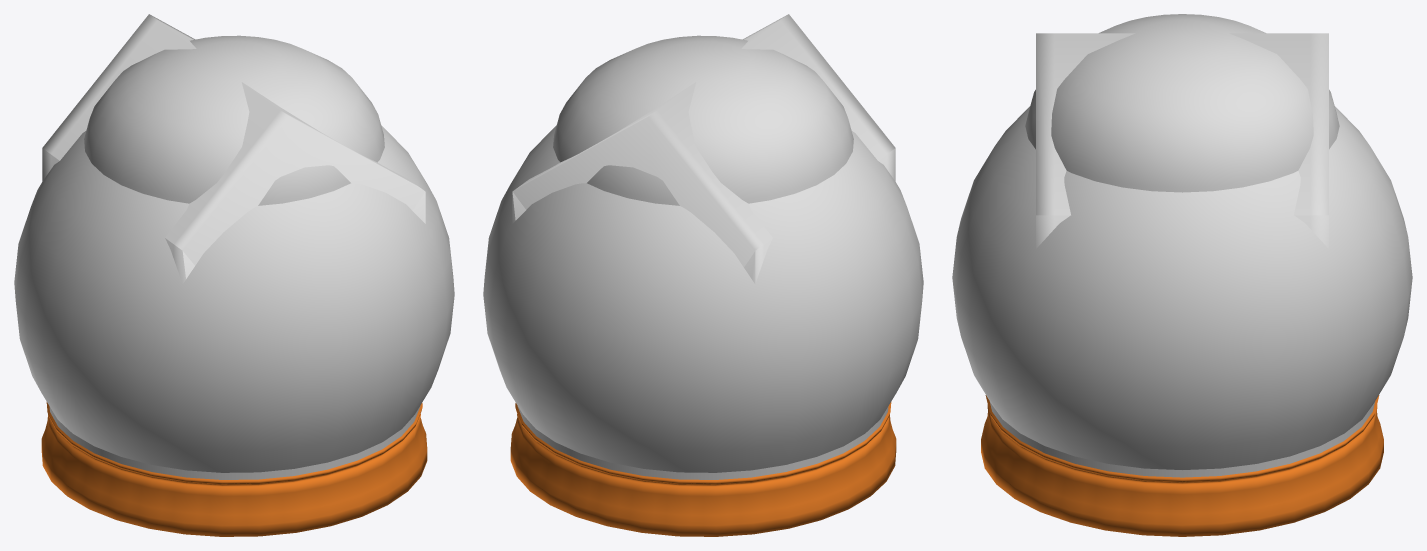
Rendered from jar.glb.
The picture shows the model from 3 angles, left to right: view 1: azimuth 30°, elevation 25°; view 2: azimuth 150°, elevation 25°; view 3: azimuth 270°, elevation 25°; orthographic projection. The views are drawn at different scales.
Parts seen in each view (by area): view 1: sphere, jar, base, house; view 2: sphere, jar, base, house; view 3: sphere, jar, base, house.
Boxes of the visible parts, x1=… form: sphere: x1=14, y1=125, x2=454, y2=472; jar: x1=49, y1=35, x2=420, y2=479; base: x1=41, y1=402, x2=427, y2=536; house: x1=42, y1=14, x2=425, y2=283; sphere: x1=483, y1=125, x2=923, y2=472; jar: x1=517, y1=35, x2=888, y2=479; base: x1=510, y1=402, x2=896, y2=536; house: x1=512, y1=14, x2=895, y2=283; sphere: x1=952, y1=106, x2=1412, y2=469; jar: x1=989, y1=14, x2=1375, y2=477; base: x1=981, y1=395, x2=1383, y2=536; house: x1=1036, y1=33, x2=1328, y2=248.
Size of the model in its own units: 2.72 by 2.7 by 2.72.
